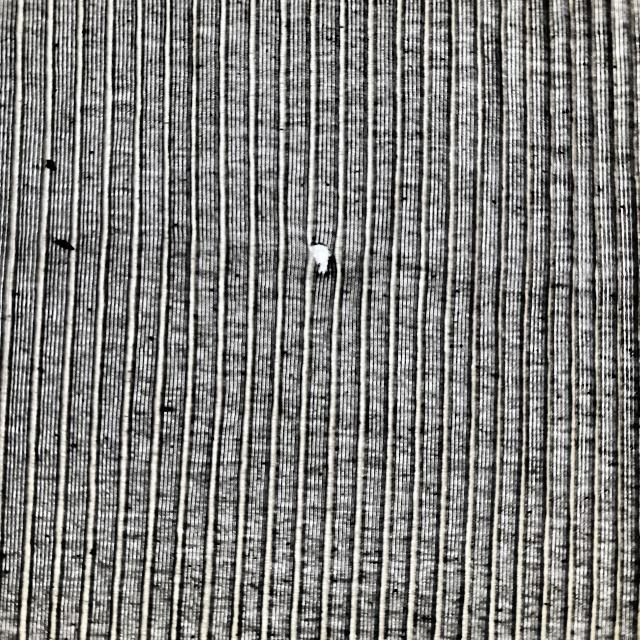cut: (237, 295, 278, 344), (236, 555, 261, 605), (153, 564, 178, 607), (399, 460, 421, 485)
